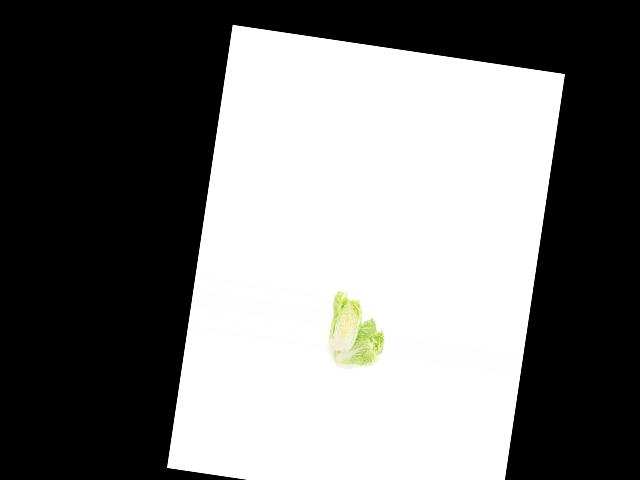lettuce: (329, 309, 390, 375)
